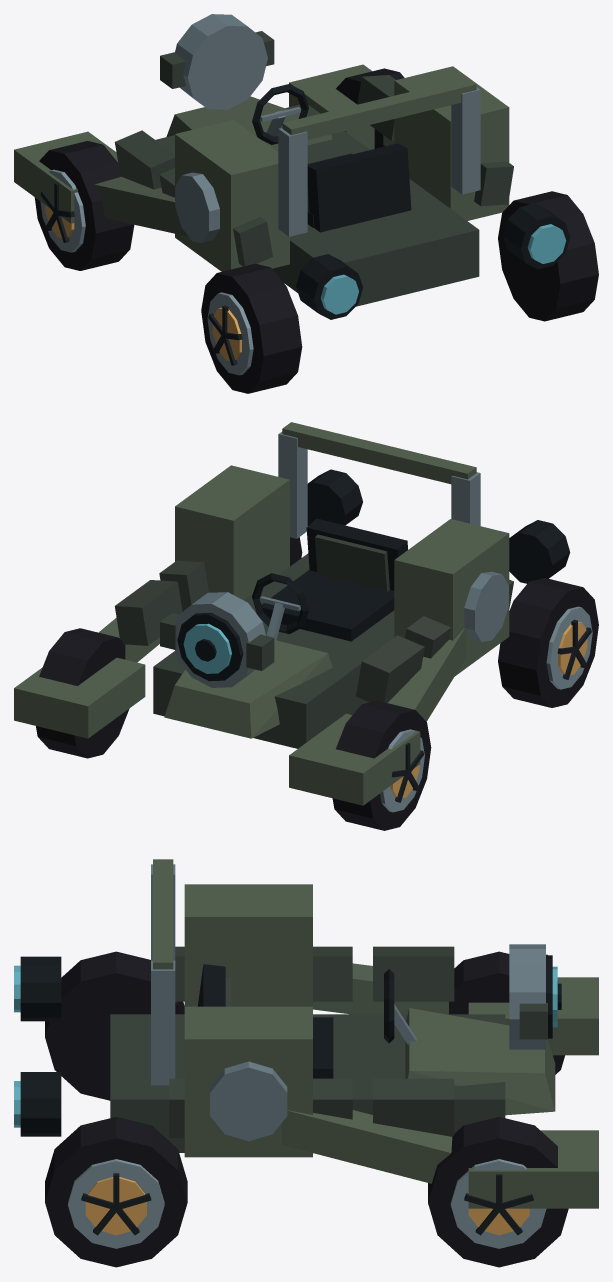
The model's file is kart.glb.
3 renders of one model, top to bottom at view 1: azimuth 30°, elevation 25°; view 2: azimuth 150°, elevation 25°; view 3: azimuth 270°, elevation 25°, orthographic. The views are drawn at different scales.
Visible parts, largest first — view 1: identity-mech-mech-articulated-limbs-and-open-harness, wheel-rear-left, identity-mech-driver-cockpit, wheel-front-left, identity-mech-motif-optic, wheel-rear-right, identity-mech-motif-armor, identity-mech-motif-thrusters, wheel-front-right; view 2: identity-mech-mech-articulated-limbs-and-open-harness, identity-mech-driver-cockpit, wheel-rear-left, identity-mech-motif-armor, identity-mech-motif-optic, wheel-front-left, identity-mech-motif-thrusters, wheel-front-right; view 3: identity-mech-mech-articulated-limbs-and-open-harness, wheel-rear-right, identity-mech-motif-armor, wheel-front-right, wheel-rear-left, identity-mech-motif-thrusters, identity-mech-motif-optic, identity-mech-driver-cockpit, wheel-front-left.
Part boxes in pixels (box(x1,y1,x2,y2)): identity-mech-mech-articulated-limbs-and-open-harness: box(14, 64, 509, 306); wheel-rear-left: box(201, 263, 302, 393); identity-mech-driver-cockpit: box(252, 84, 411, 232); wheel-front-left: box(34, 141, 134, 270); identity-mech-motif-optic: box(160, 14, 274, 109); wheel-rear-right: box(498, 191, 598, 321); identity-mech-motif-armor: box(114, 75, 513, 266); identity-mech-motif-thrusters: box(296, 203, 569, 319); wheel-front-right: box(336, 68, 404, 148); identity-mech-mech-articulated-limbs-and-open-harness: box(14, 422, 509, 805); identity-mech-driver-cockpit: box(252, 518, 407, 641); wheel-rear-left: box(498, 578, 598, 707); identity-mech-motif-armor: box(114, 560, 513, 702); identity-mech-motif-optic: box(160, 592, 274, 687); wheel-front-left: box(332, 700, 431, 830); identity-mech-motif-thrusters: box(307, 469, 570, 583); wheel-front-right: box(36, 628, 129, 758); identity-mech-mech-articulated-limbs-and-open-harness: box(110, 859, 598, 1208); wheel-rear-right: box(45, 1117, 187, 1267); identity-mech-motif-armor: box(169, 946, 454, 1137); wheel-front-right: box(428, 1117, 568, 1267); wheel-rear-left: box(45, 951, 184, 1100); identity-mech-motif-thrusters: box(14, 956, 61, 1136); identity-mech-motif-optic: box(509, 944, 561, 1049); identity-mech-driver-cockpit: box(197, 964, 416, 1078); wheel-front-left: box(449, 951, 564, 1074).
Bounding box in the file's own units: 2.29 × 1.42 × 2.87.
